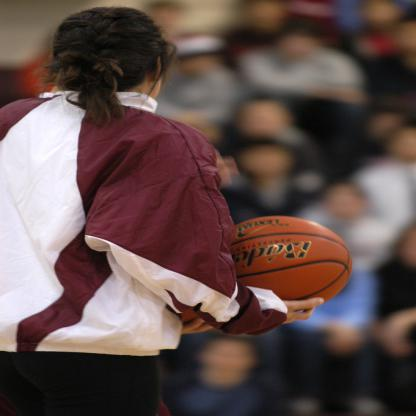Ball: (236, 218, 353, 304)
